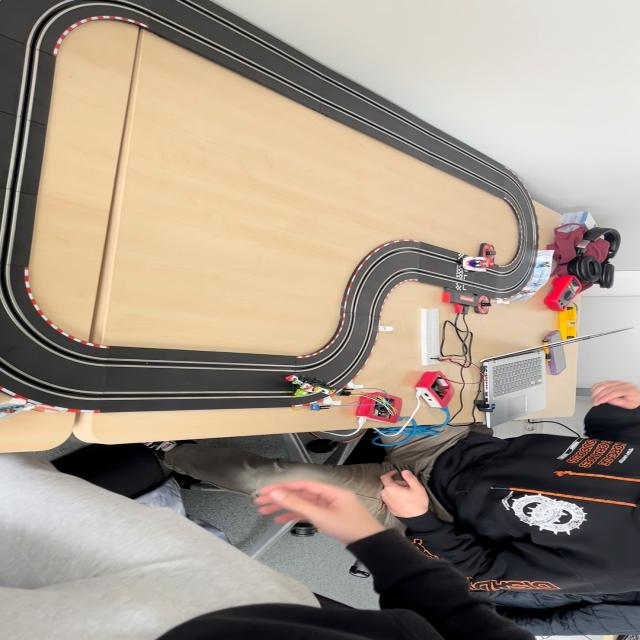mario: (462, 256, 496, 273)
yoshi: (283, 372, 339, 397)
